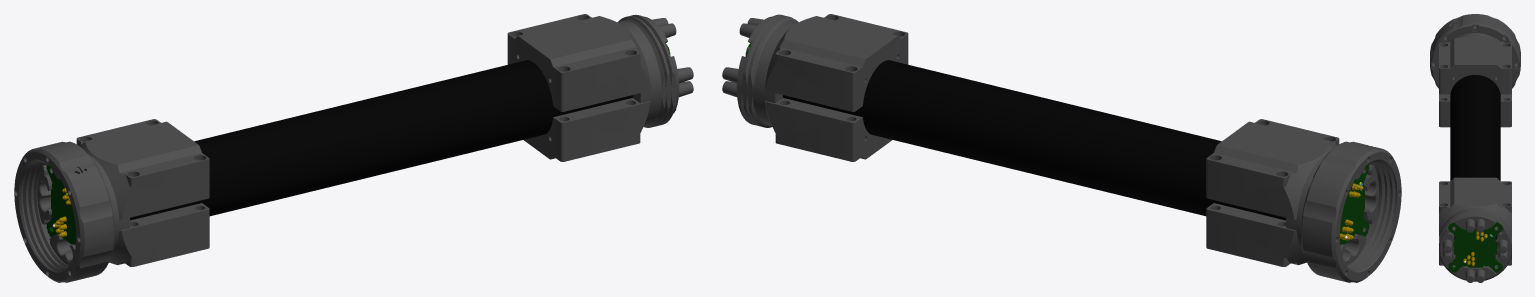
3 views of the same model, side by side, from view 1: azimuth 30°, elevation 25°; view 2: azimuth 150°, elevation 25°; view 3: azimuth 270°, elevation 25° (orthographic). The views are drawn at different scales.
Parts seen in each view (by area): view 1: node28, node26, node27, node30, node32, node29, node31, node13; view 2: node28, node26, node27, node30, node32, node29, node31, node13; view 3: node28, node27, node26, node32, node0, node31, node30, node6, node29.
Boxes of the visible parts, box(x1,y1,x2,y2) form: node28: box(130, 60, 632, 220); node26: box(507, 14, 651, 161); node27: box(76, 119, 209, 266); node30: box(14, 143, 105, 282); node32: box(617, 14, 693, 127); node29: box(37, 155, 119, 265); node31: box(55, 141, 114, 277); node13: box(46, 164, 75, 244); node28: box(783, 60, 1285, 220); node26: box(764, 14, 908, 161); node27: box(1206, 119, 1339, 266); node30: box(1310, 143, 1401, 282); node32: box(722, 14, 798, 127); node29: box(1296, 155, 1378, 265); node31: box(1301, 141, 1360, 277); node13: box(1340, 164, 1369, 244); node28: box(1450, 75, 1500, 245); node27: box(1439, 36, 1511, 127); node26: box(1439, 177, 1511, 265); node32: box(1440, 207, 1510, 282); node0: box(1448, 221, 1502, 272); node31: box(1430, 20, 1520, 88); node30: box(1430, 14, 1520, 63); node6: box(1463, 231, 1487, 266); node29: box(1456, 33, 1494, 38).
Bounding box in the file's own units: 0.234 × 0.045 × 0.045.
